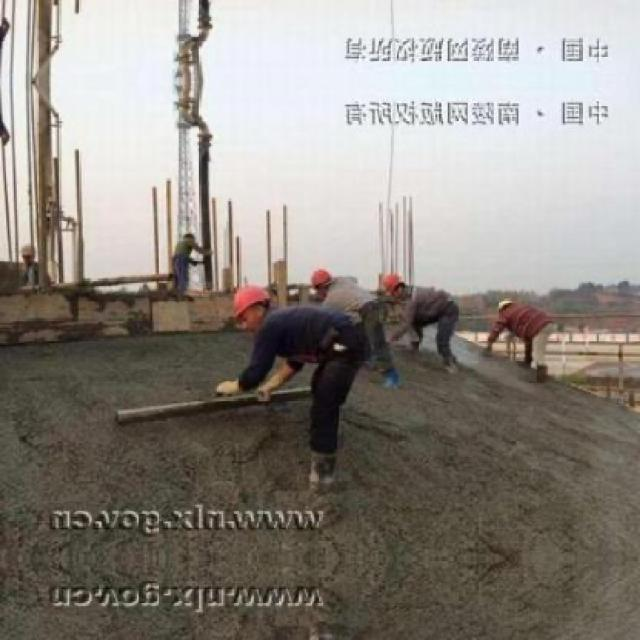helmet: (228, 282, 275, 332), (306, 268, 336, 297), (385, 270, 409, 298), (495, 295, 517, 317)
